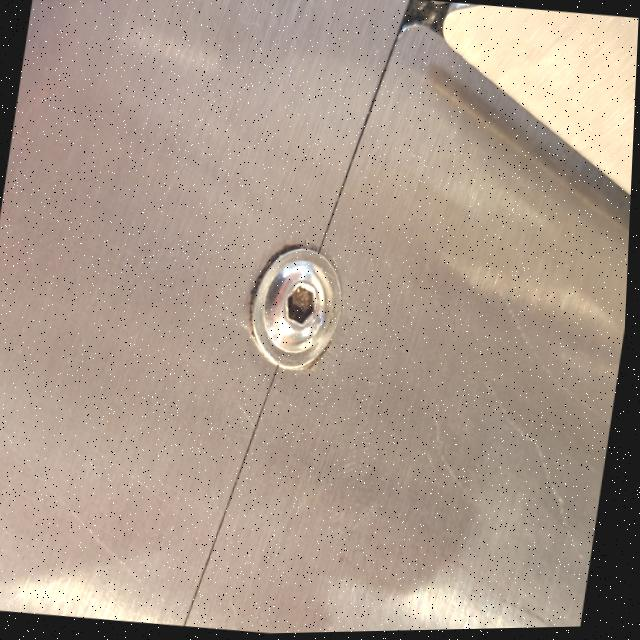Hex Socket Allen: (225, 226, 366, 385)
